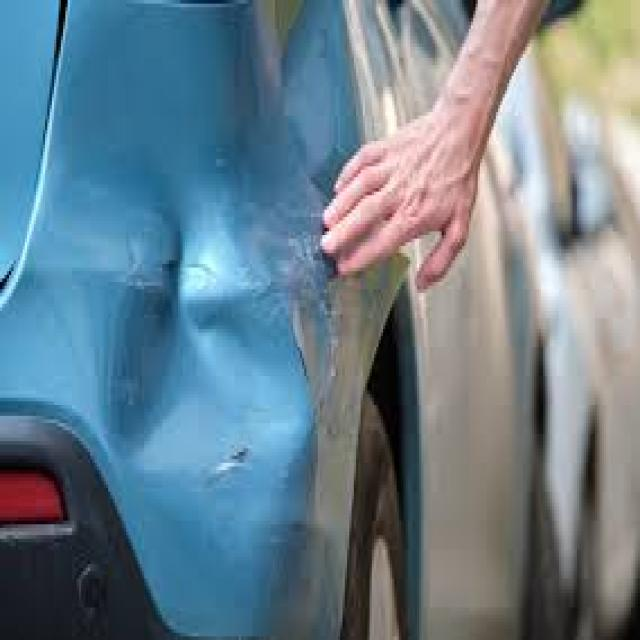Dent: (83, 268, 322, 516), (248, 30, 359, 166)
